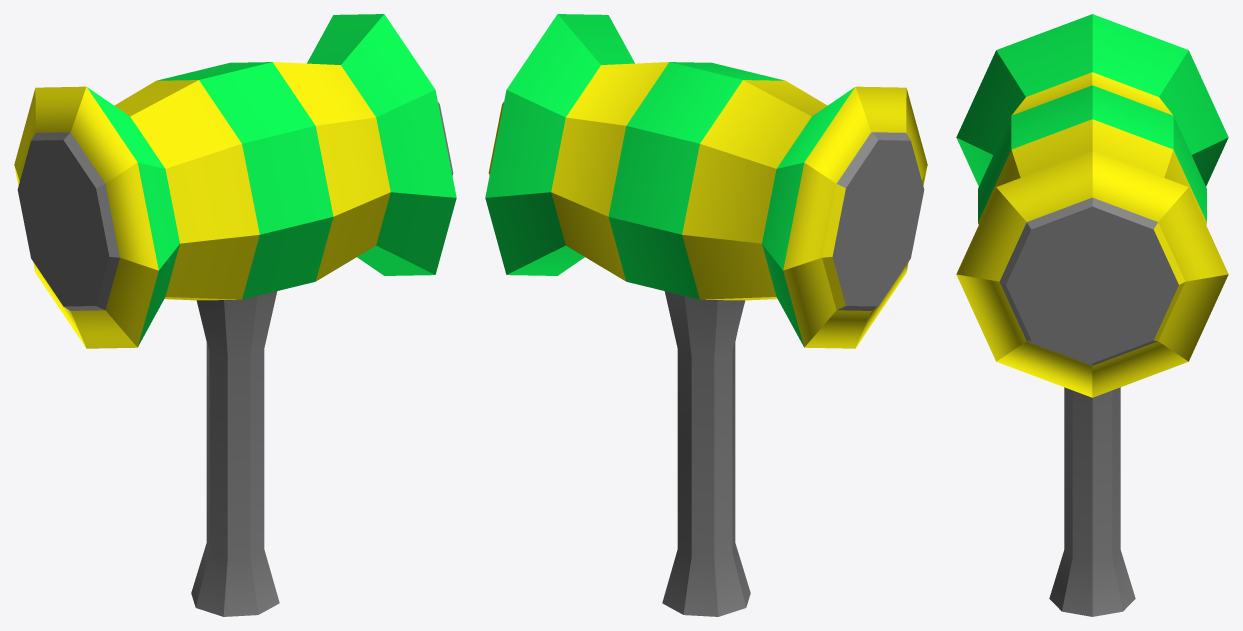
Rendered from Whack-A-Mole Hammer.fbx.
3 renders of one model, left to right at view 1: azimuth 30°, elevation 25°; view 2: azimuth 150°, elevation 25°; view 3: azimuth 270°, elevation 25°, orthographic. The views are drawn at different scales.
Parts seen in each view (by area): view 1: pCylinder3; view 2: pCylinder3; view 3: pCylinder3.
Part boxes in pixels (<box>): pCylinder3: <box>14,14,456,616</box>; pCylinder3: <box>485,14,927,616</box>; pCylinder3: <box>956,14,1228,616</box>.
Size of the model in its own units: 6.5 by 9.89 by 4.73.
